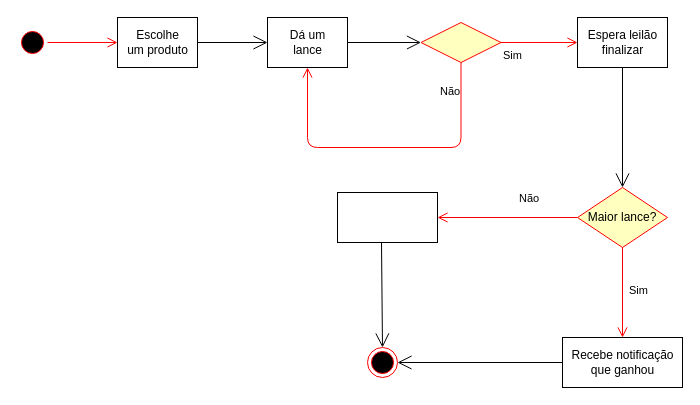
The diagram is 700 pixels wide and 405 high, and some of its shapes have lost their labels. The centre of each missing label's shape, as x and y in pixels:
"Satisfeito?" belongs at point 460,42.
"É avisado que não ganhou" belongs at point 387,217.
